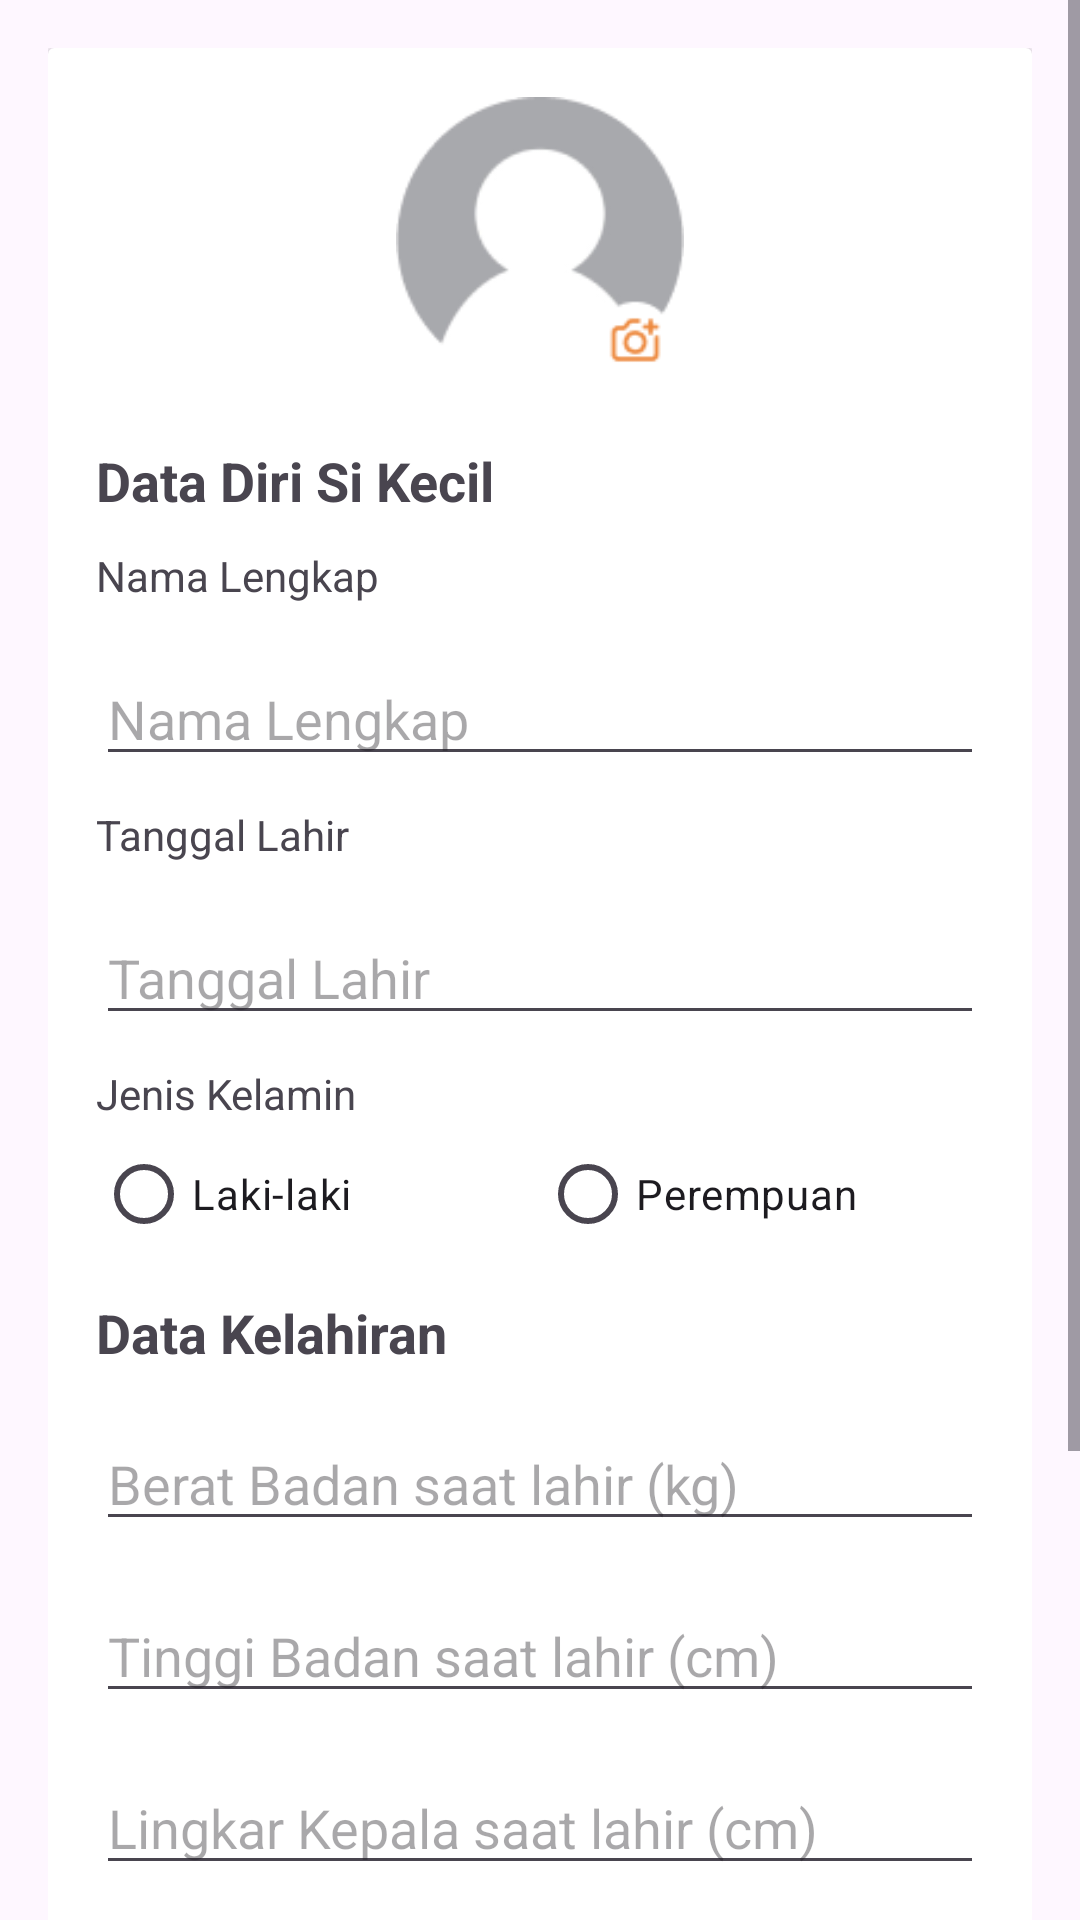

Icons on this 1080×1920 Android screen, each with its box as (x1, y1, x2, y2):
ava: (396, 97, 684, 362)
